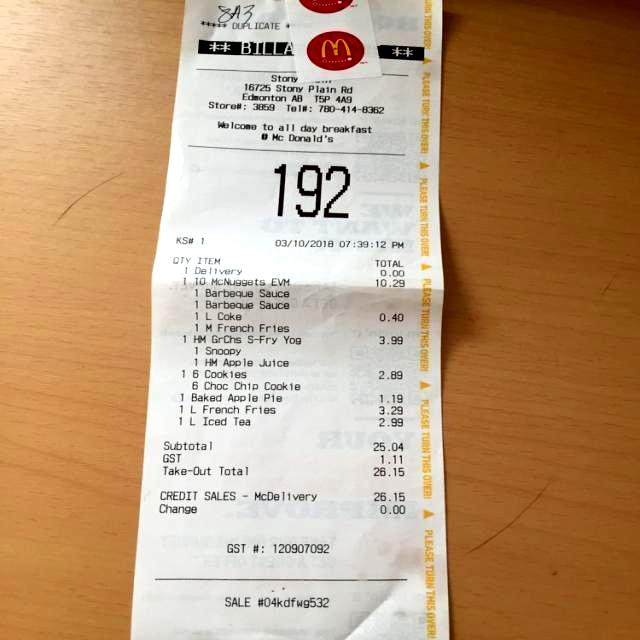Paper: (128, 0, 448, 640)
